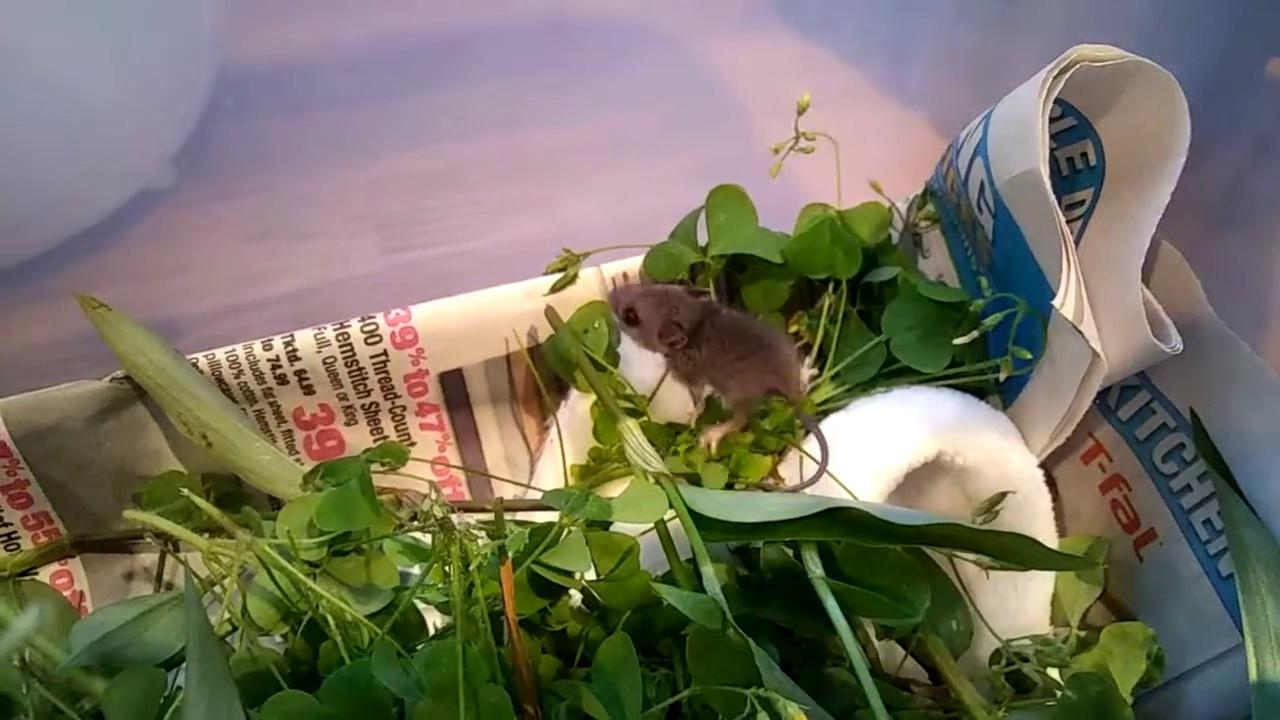rat: (607, 285, 830, 493)
